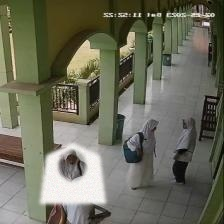Mukena: (40, 143, 105, 203)
